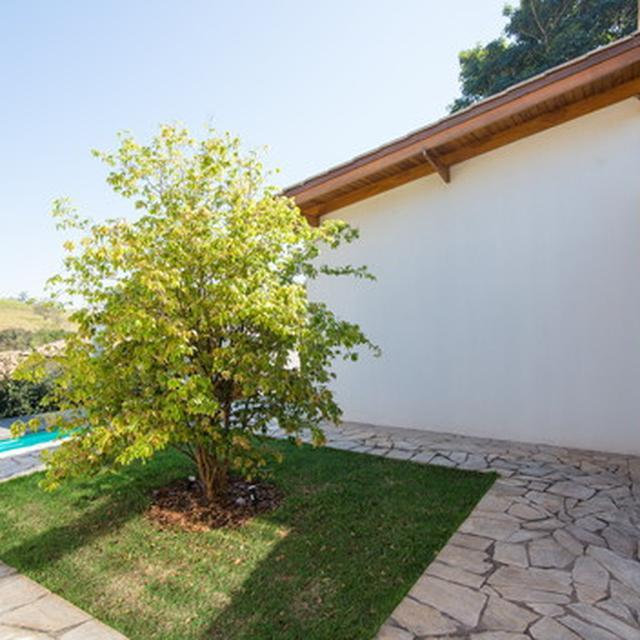building: (286, 30, 640, 457)
